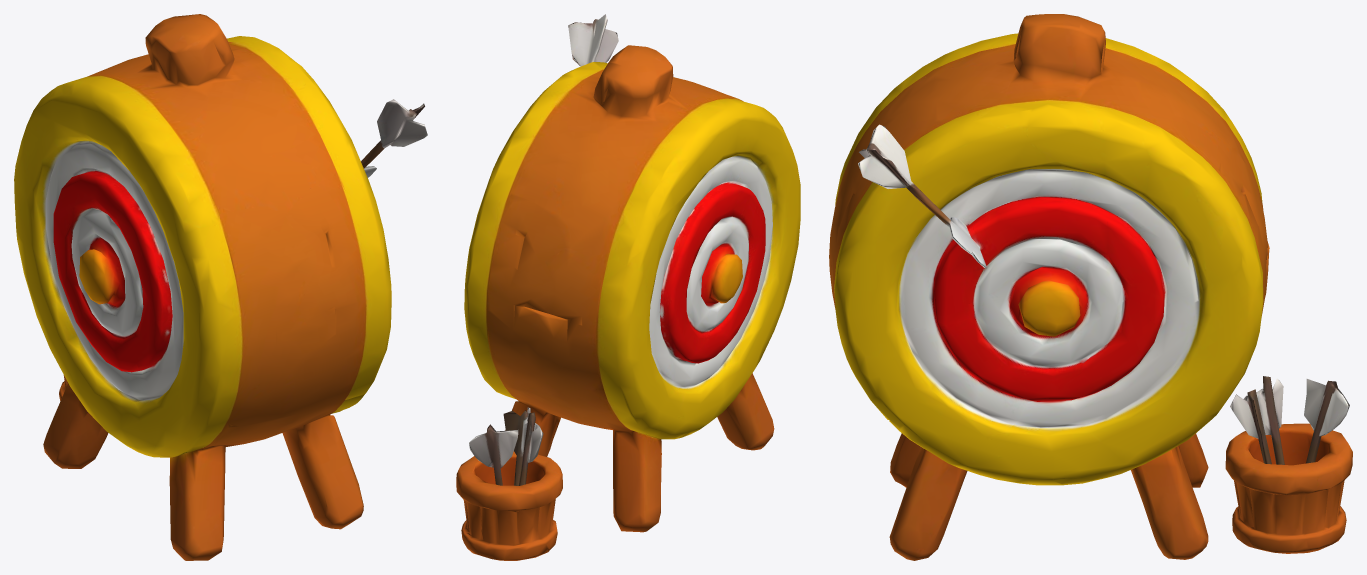
File: archery_target-Bn9Kxxun.glb
The picture shows the model from 3 angles, left to right: view 1: azimuth 30°, elevation 25°; view 2: azimuth 150°, elevation 25°; view 3: azimuth 270°, elevation 25°; orthographic projection. The views are drawn at different scales.
Parts seen in each view (by area): view 1: tripo_node_fd6613ed-9a3b-449a-bffc-6898a539c90d; view 2: tripo_node_fd6613ed-9a3b-449a-bffc-6898a539c90d; view 3: tripo_node_fd6613ed-9a3b-449a-bffc-6898a539c90d.
Boxes of the visible parts, <box> form: tripo_node_fd6613ed-9a3b-449a-bffc-6898a539c90d: <box>14,14,427,560</box>; tripo_node_fd6613ed-9a3b-449a-bffc-6898a539c90d: <box>456,14,800,560</box>; tripo_node_fd6613ed-9a3b-449a-bffc-6898a539c90d: <box>829,14,1352,560</box>.
Bounding box in the file's own units: 0.5773 × 1 × 0.9505.
Materials: 1 (1 with a texture image).
